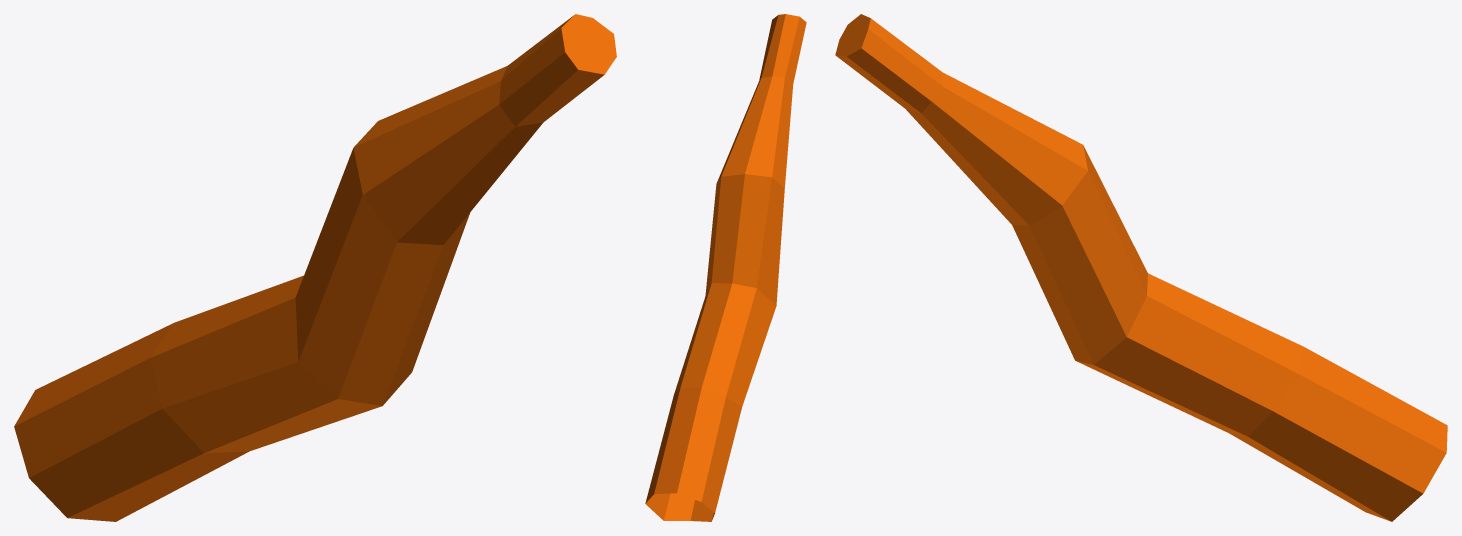
Rendered from Stick.glb.
3 views of the same model, side by side, from view 1: azimuth 30°, elevation 25°; view 2: azimuth 150°, elevation 25°; view 3: azimuth 270°, elevation 25° (orthographic). The views are drawn at different scales.
Visible parts, largest first — view 1: Stick.001; view 2: Stick.001; view 3: Stick.001.
Boxes of the visible parts, bbox=[...] form: Stick.001: bbox=[14, 14, 616, 521]; Stick.001: bbox=[645, 14, 806, 521]; Stick.001: bbox=[835, 14, 1447, 521].
Bounding box in the file's own units: 1.37 × 3.9 × 3.97.
Materials: 1 (1 with a texture image).
